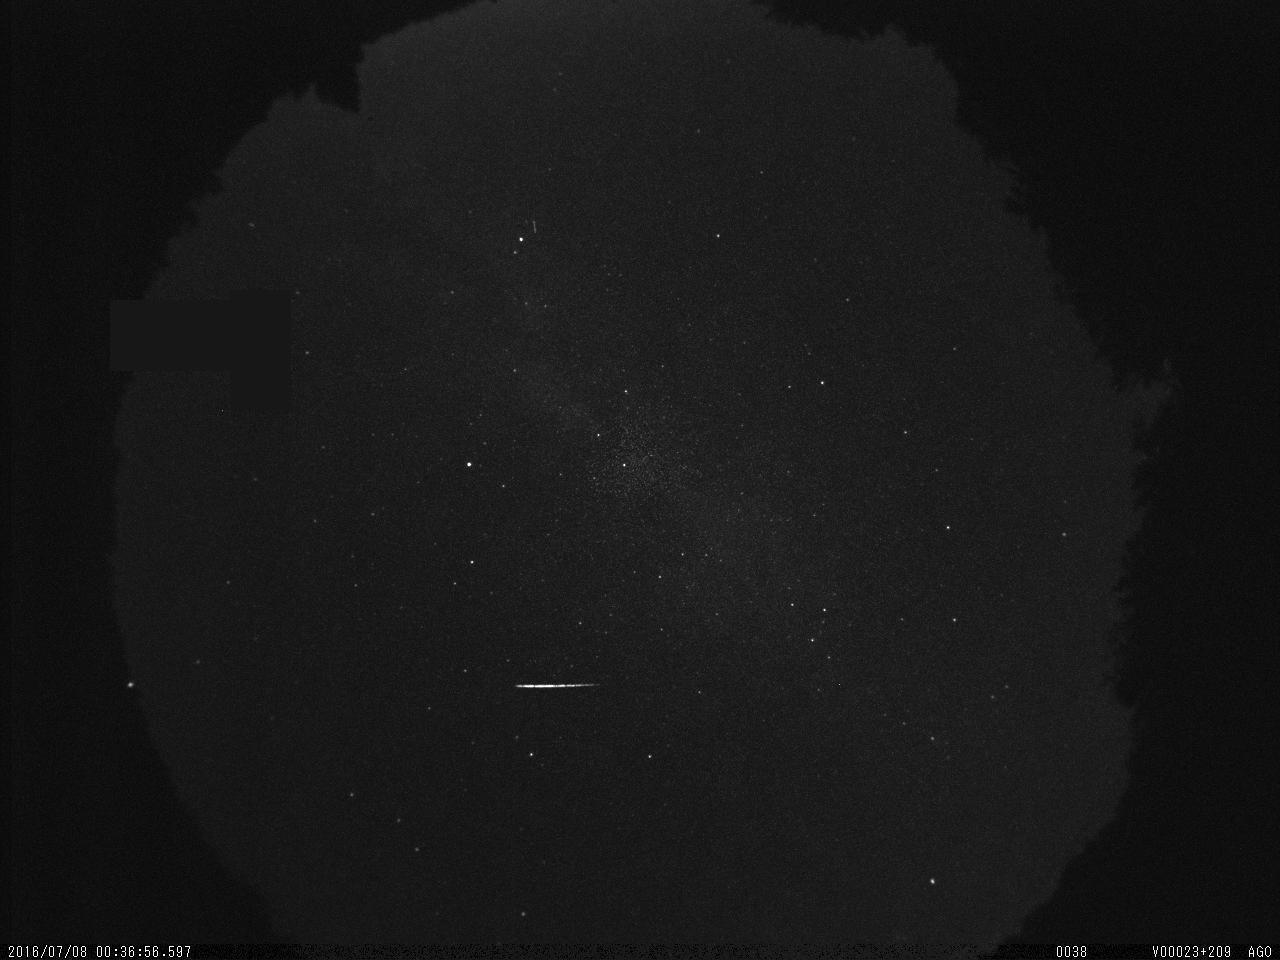Meteor: (512, 678, 597, 690)
